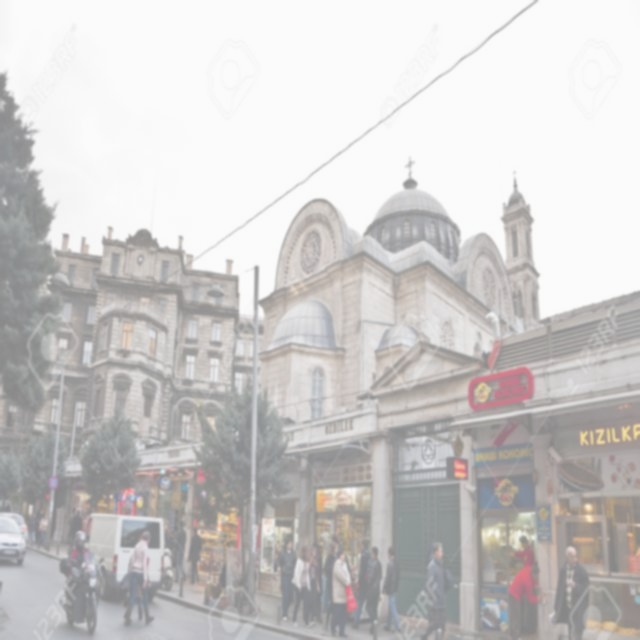pessoa: (549, 544, 590, 640), (120, 530, 154, 629), (508, 558, 548, 640), (418, 540, 446, 640), (66, 529, 94, 620), (126, 535, 152, 621), (331, 546, 354, 638), (351, 538, 373, 630), (291, 544, 315, 628), (331, 545, 353, 635), (427, 542, 447, 639), (382, 545, 402, 633), (278, 536, 298, 620), (364, 545, 382, 634), (322, 541, 338, 632), (306, 545, 321, 626), (217, 534, 234, 602), (310, 540, 324, 620), (230, 539, 243, 615), (188, 525, 204, 585), (509, 534, 537, 568), (173, 519, 187, 583), (84, 508, 96, 560), (70, 508, 83, 552), (37, 512, 49, 548), (68, 506, 78, 549), (26, 510, 38, 544), (329, 533, 341, 552), (164, 522, 171, 550), (0, 498, 12, 514), (170, 532, 176, 563), (37, 508, 45, 522)
